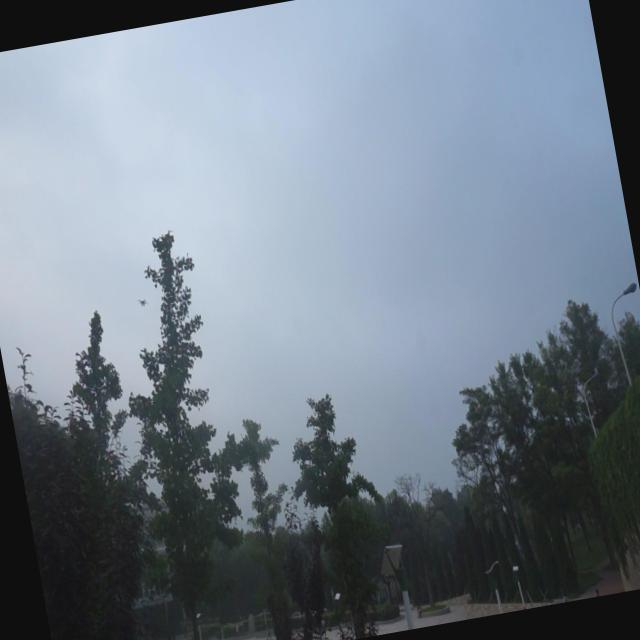drone: (137, 296, 148, 306)
